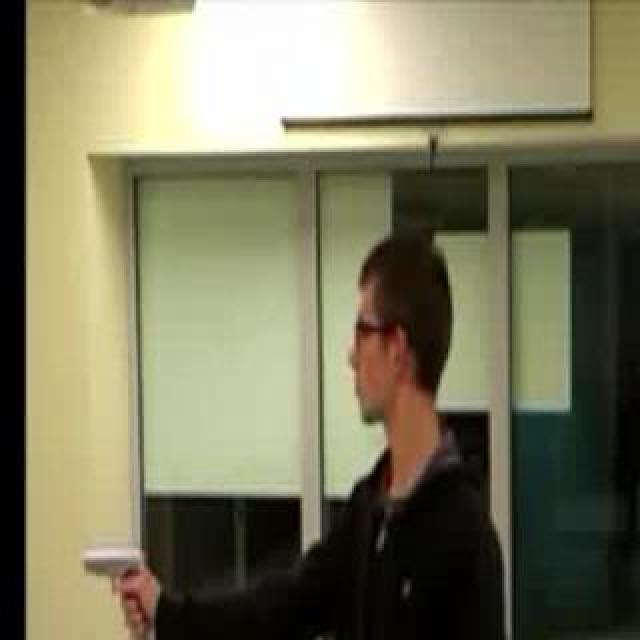Guns: (71, 532, 158, 636)
